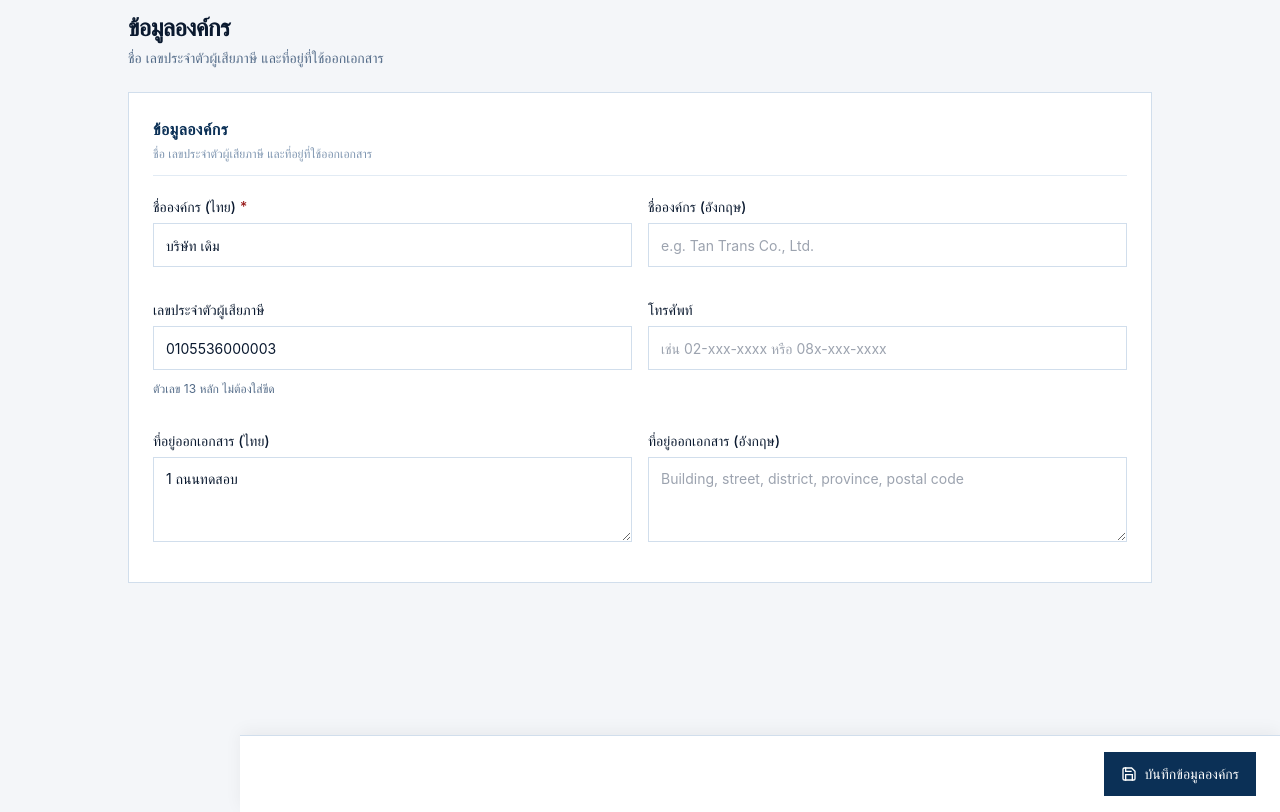
Test: OrganizationProfileForm › shows the dedicated message for a server-side tax identifier error
Click the button "บันทึกข้อมูลองค์กร" at (1180, 774), box 1104,752 -> 1256,796
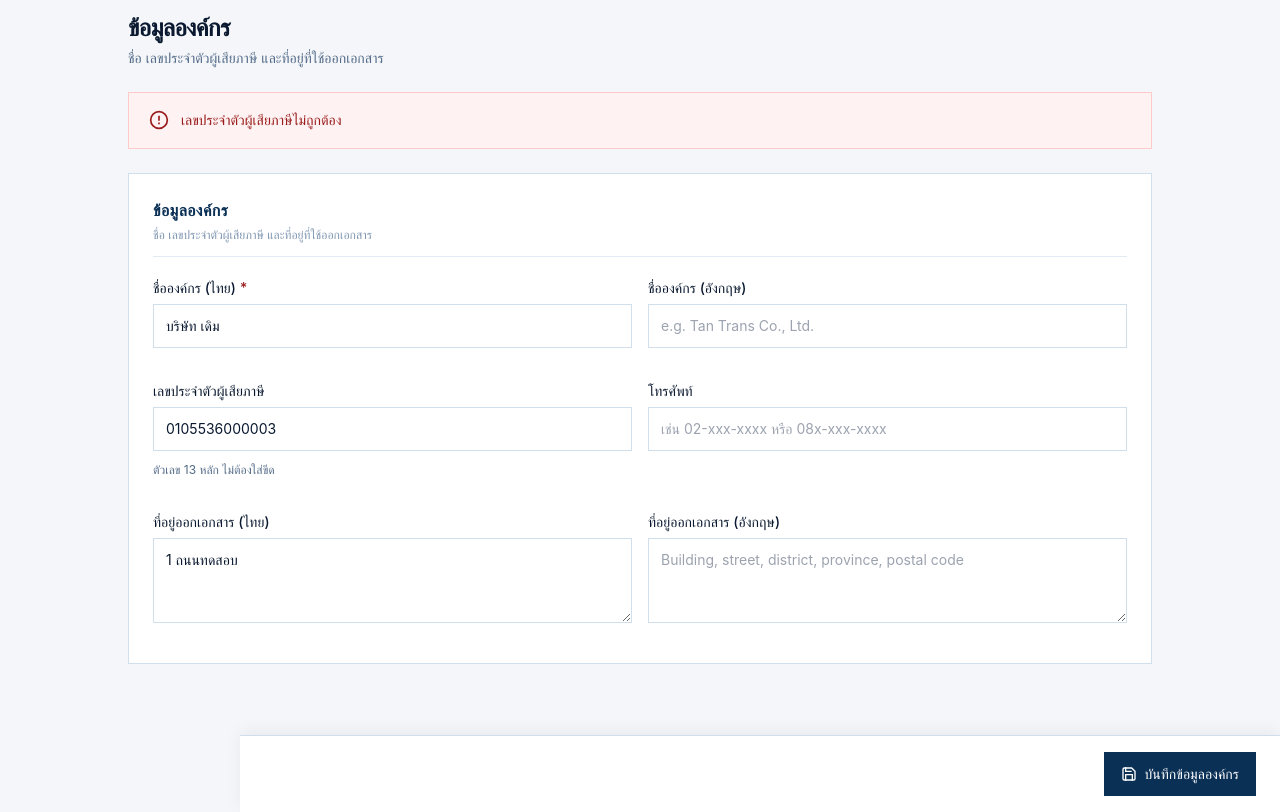
Result: the text "เลขประจำตัวผู้เสียภาษีไม่ถูกต้อง" is shown at 181,111 -> 342,128
